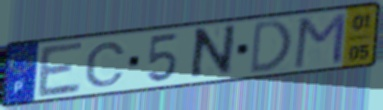5: (145, 31, 180, 84)
C: (83, 40, 129, 89)
D: (247, 17, 295, 77)
E: (35, 39, 86, 100)
M: (290, 10, 349, 71)
N: (186, 21, 239, 84)
